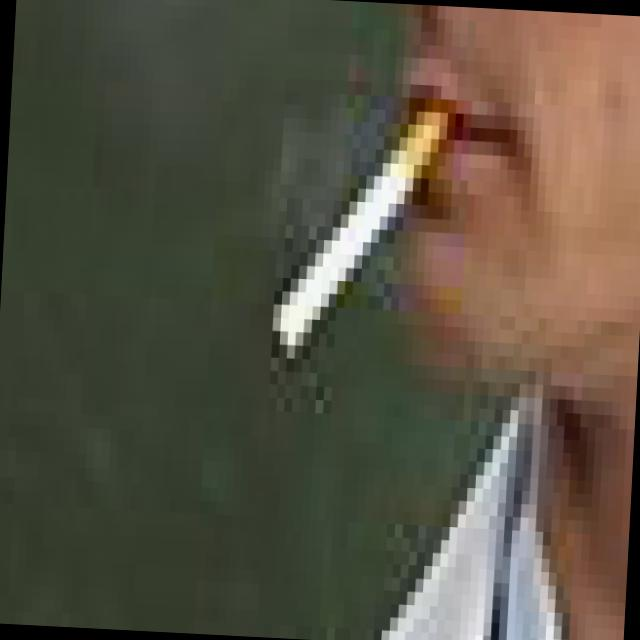smoke: (244, 44, 472, 379)
